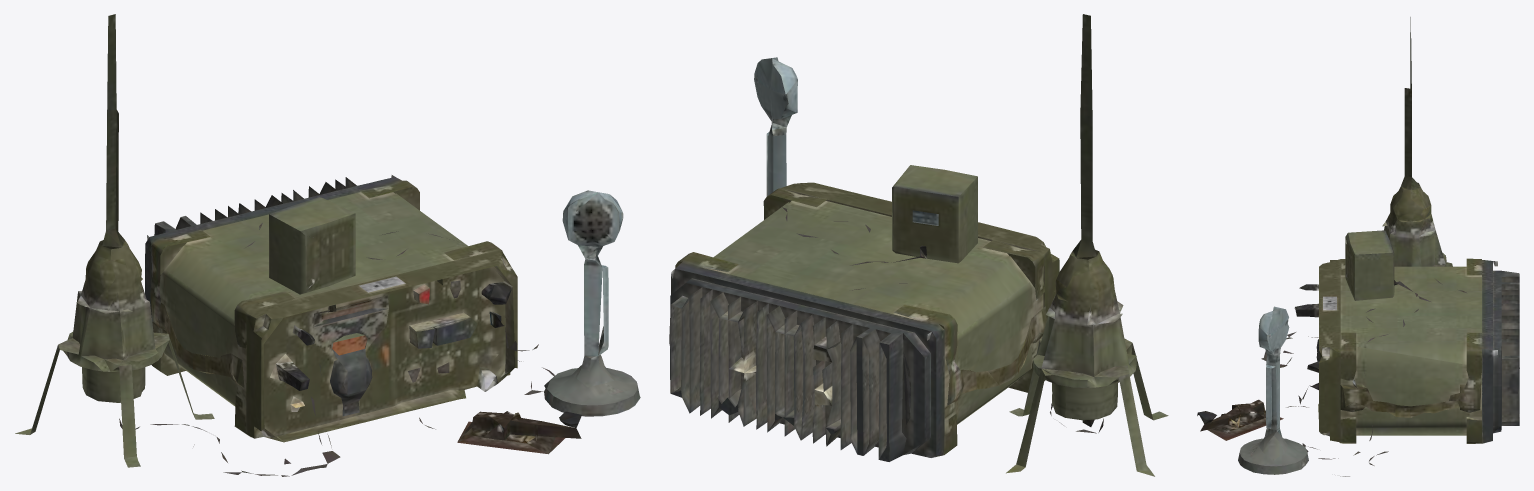
Rendered from radio.glb.
3 renders of one model, left to right at view 1: azimuth 30°, elevation 25°; view 2: azimuth 150°, elevation 25°; view 3: azimuth 270°, elevation 25°, orthographic. The views are drawn at different scales.
Visible parts, largest first — view 1: mesh; view 2: mesh; view 3: mesh.
Boxes of the visible parts, <box> form: mesh: <box>15,14,640,476</box>; mesh: <box>669,14,1168,476</box>; mesh: <box>1197,17,1519,476</box>.
Size of the model in its own units: 0.5685 by 0.43 by 0.4114.
Materials: 1 (1 with a texture image).
